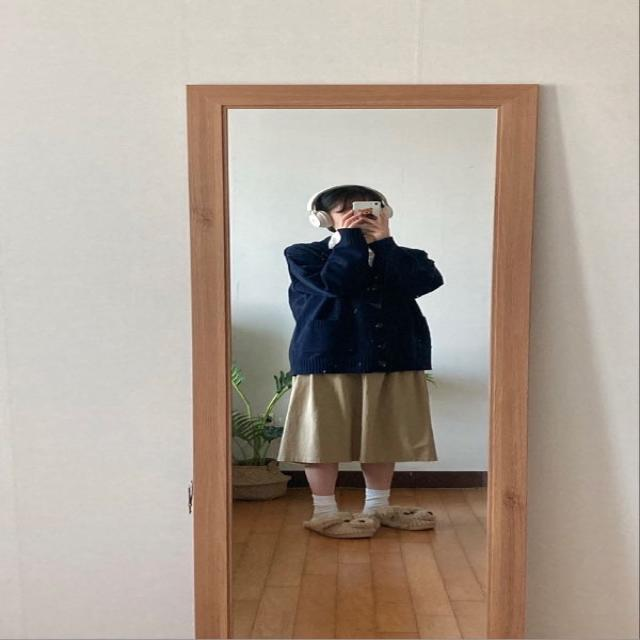cardigan: (282, 232, 442, 378)
skirt: (282, 362, 442, 465)
